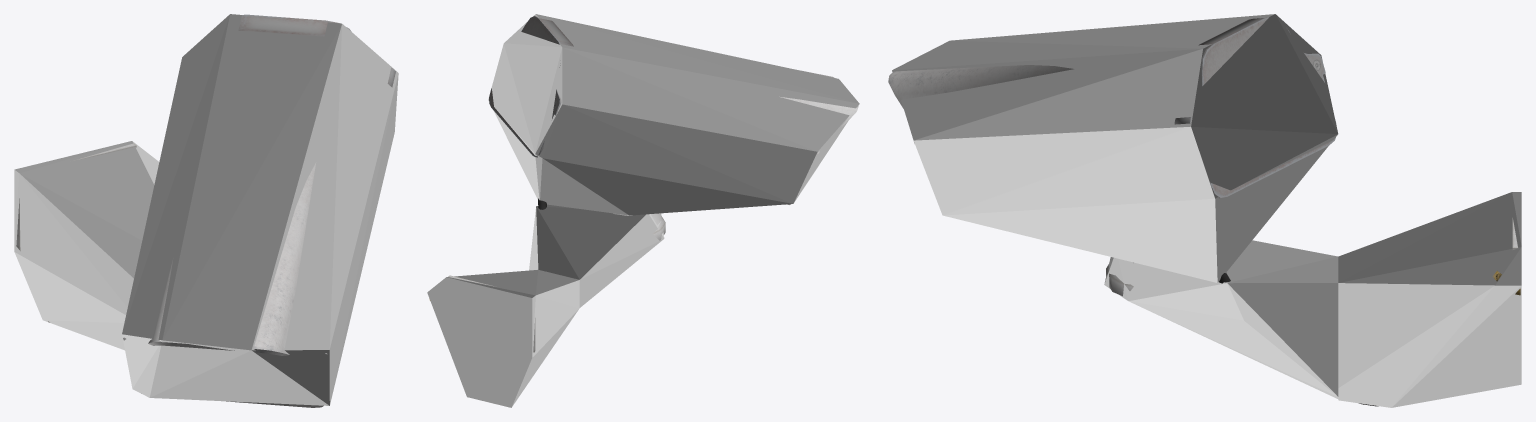
Rendered from SM_CCTVCamera.fbx.
3 views of the same model, side by side, from view 1: azimuth 30°, elevation 25°; view 2: azimuth 150°, elevation 25°; view 3: azimuth 270°, elevation 25° (orthographic). The views are drawn at different scales.
Visible parts, largest first — view 1: SM_CCTVCamera_ConvexHulls, SM_CCTVCamera; view 2: SM_CCTVCamera_ConvexHulls, SM_CCTVCamera; view 3: SM_CCTVCamera_ConvexHulls, SM_CCTVCamera.
Boxes of the visible parts, box(x1,y1,x2,y2) form: SM_CCTVCamera_ConvexHulls: box(14, 14, 398, 405); SM_CCTVCamera: box(16, 14, 395, 407); SM_CCTVCamera_ConvexHulls: box(427, 14, 859, 407); SM_CCTVCamera: box(429, 16, 858, 352); SM_CCTVCamera_ConvexHulls: box(892, 14, 1521, 407); SM_CCTVCamera: box(888, 17, 1520, 406).
Bounding box in the file's own units: 52.44 × 80.49 × 53.93.
Materials: 3 (2 with a texture image).
